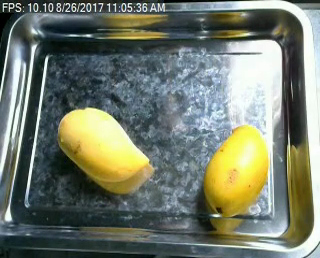Mango: (52, 102, 154, 189), (198, 119, 273, 223)
